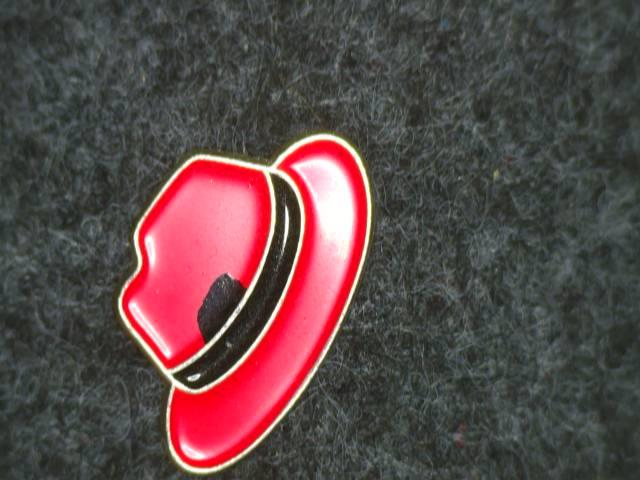Red-Hat: (88, 110, 388, 480)
Scratch: (187, 263, 264, 349)
